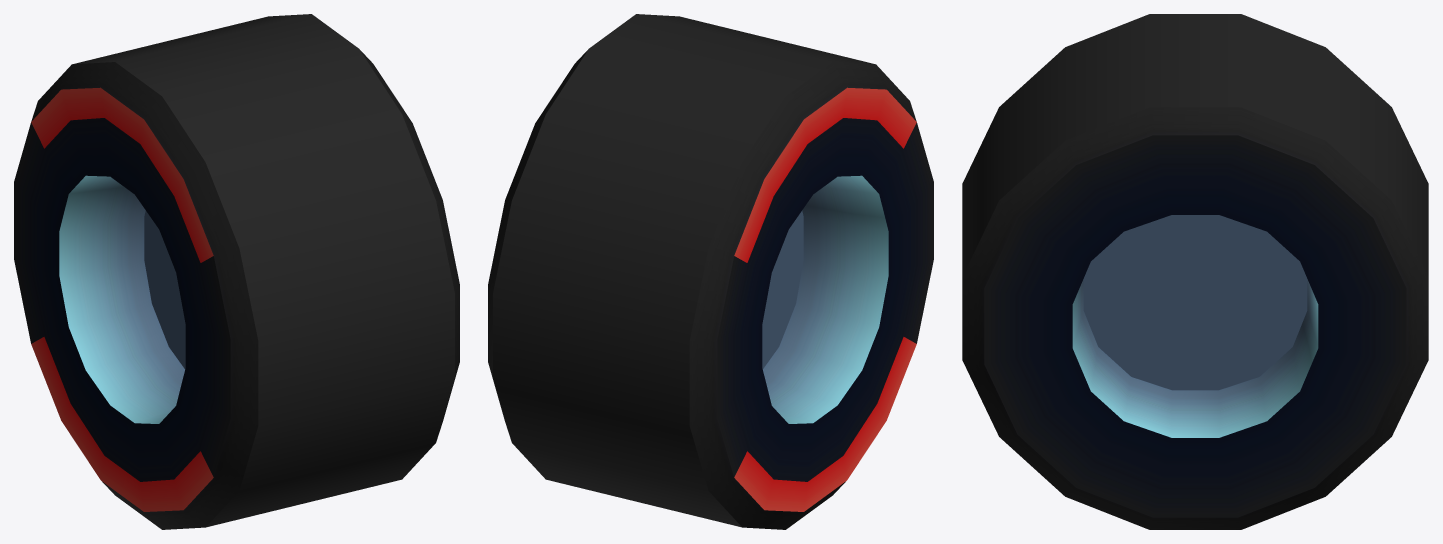
The model's file is wheelfront3.glb.
The picture shows the model from 3 angles, left to right: view 1: azimuth 30°, elevation 25°; view 2: azimuth 150°, elevation 25°; view 3: azimuth 270°, elevation 25°; orthographic projection. The views are drawn at different scales.
Visible parts, largest first — view 1: model_11; view 2: model_11; view 3: model_11.
Part boxes in pixels (x1=…): model_11: x1=14, y1=14, x2=459, y2=529; model_11: x1=488, y1=14, x2=933, y2=529; model_11: x1=962, y1=14, x2=1428, y2=529.
Size of the model in its own units: 30.66 by 55.44 by 55.44.
Materials: 1 (1 with a texture image).
